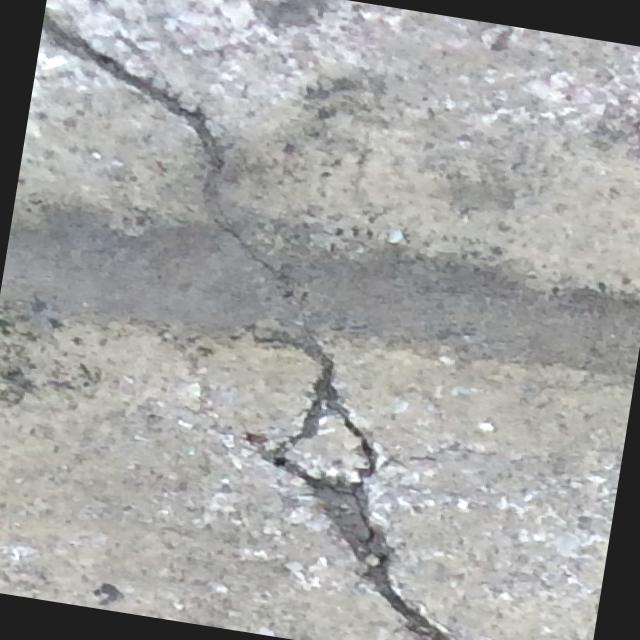crack: (0, 7, 407, 404)
spall: (215, 388, 496, 640)
